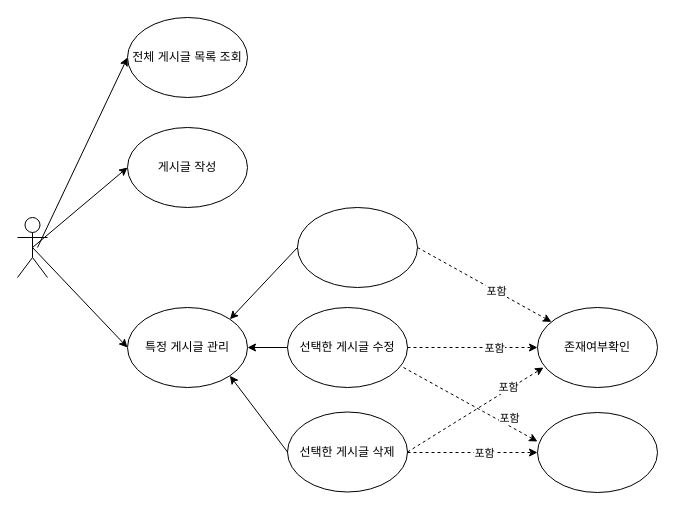
Some shapes in this 675 by 510 pixel diagram are drawn without their labels. The shapes that lost their labels are listed below. From the top down, each one's centre as x and y in pixels, then its label:
point (32, 247): Actor
point (357, 247): 선택한 게시글 조회
point (597, 452): 비밀번호 확인
